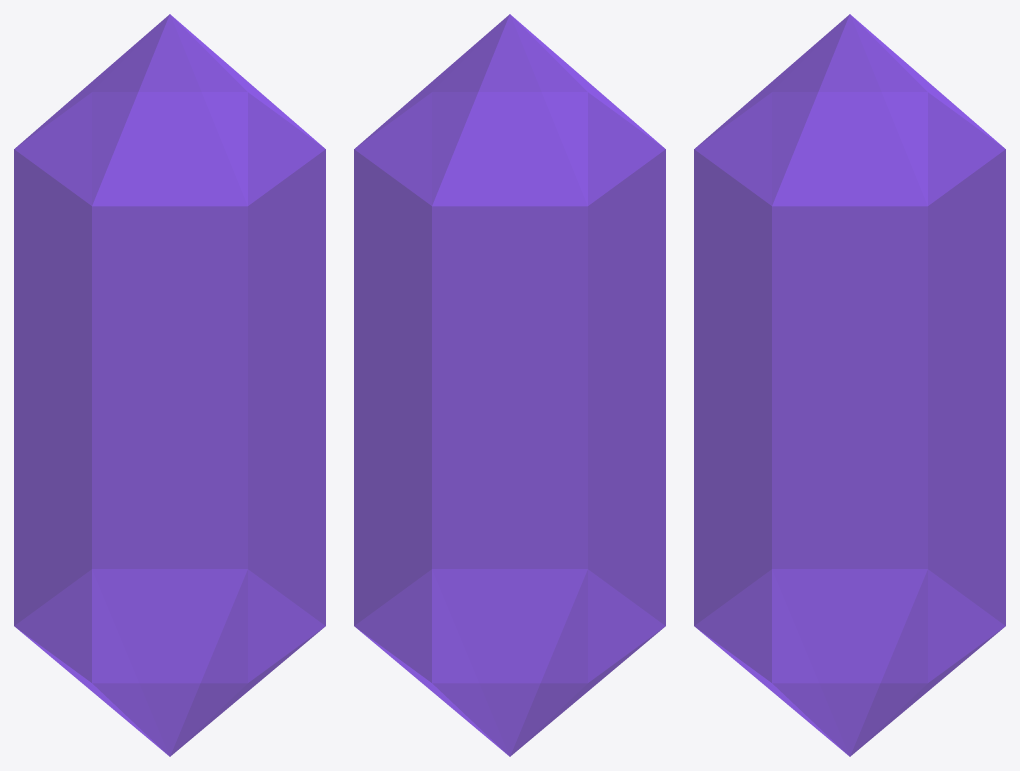
Rendered from BeltCrystal.fbx.
3 views of the same model, side by side, from view 1: azimuth 30°, elevation 25°; view 2: azimuth 150°, elevation 25°; view 3: azimuth 270°, elevation 25° (orthographic).
Parts seen in each view (by area): view 1: Cylinder; view 2: Cylinder; view 3: Cylinder.
Boxes of the visible parts, bbox=[...] form: Cylinder: bbox=[14, 14, 325, 756]; Cylinder: bbox=[354, 14, 665, 756]; Cylinder: bbox=[694, 14, 1005, 756].
Size of the model in its own units: 173 by 526 by 200.
